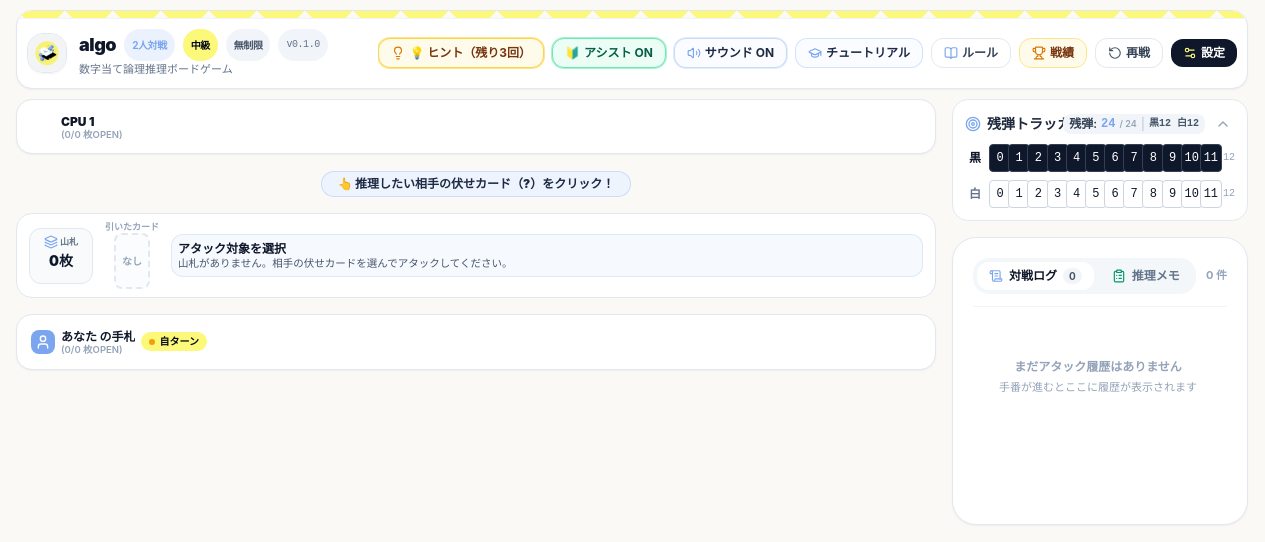
Test case: GameBoard Component & Timer Pause/Resume Logic (Issue #13) › Sound Effects & Mobile Haptics Integration (Issue #63, #71) › ヘッダーにサウンドON/OFFボタンが表示され、クリックでトグルおよびlocalStorage永続化される
This screenshot has width=1265, height=542.
# クリックしてミュートにトグル
Click the button with test id "btn-sound-toggle": (730, 53) [674,38,787,68]
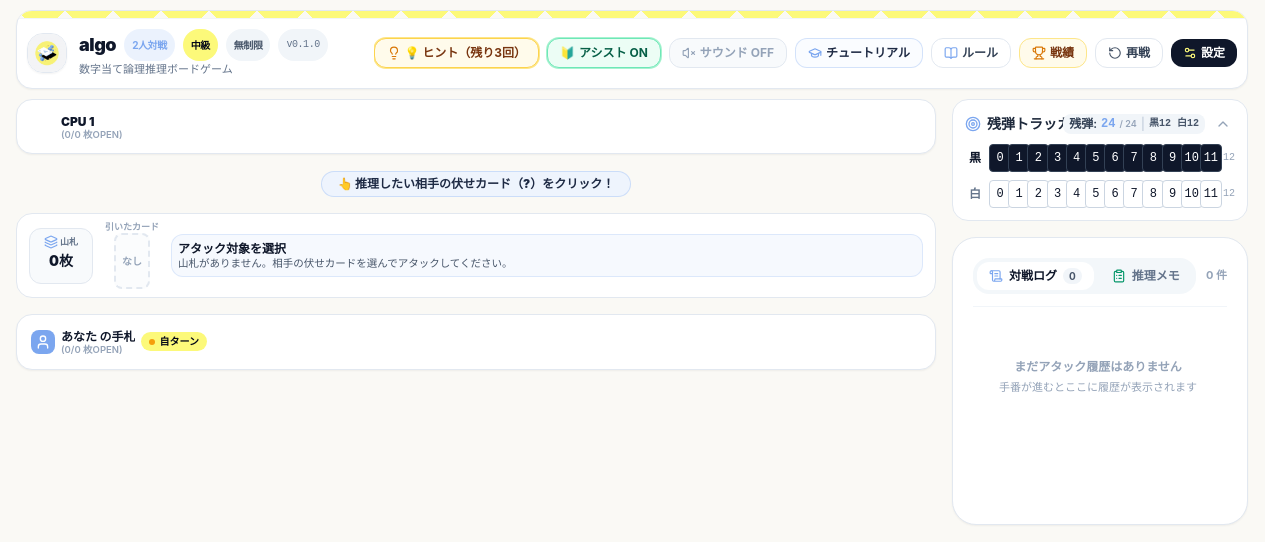
Now the button with test id "btn-sound-toggle" reads "サウンド OFF"
# 再度クリックしてONに戻す
Click the button with test id "btn-sound-toggle": (728, 53) [669,38,787,68]
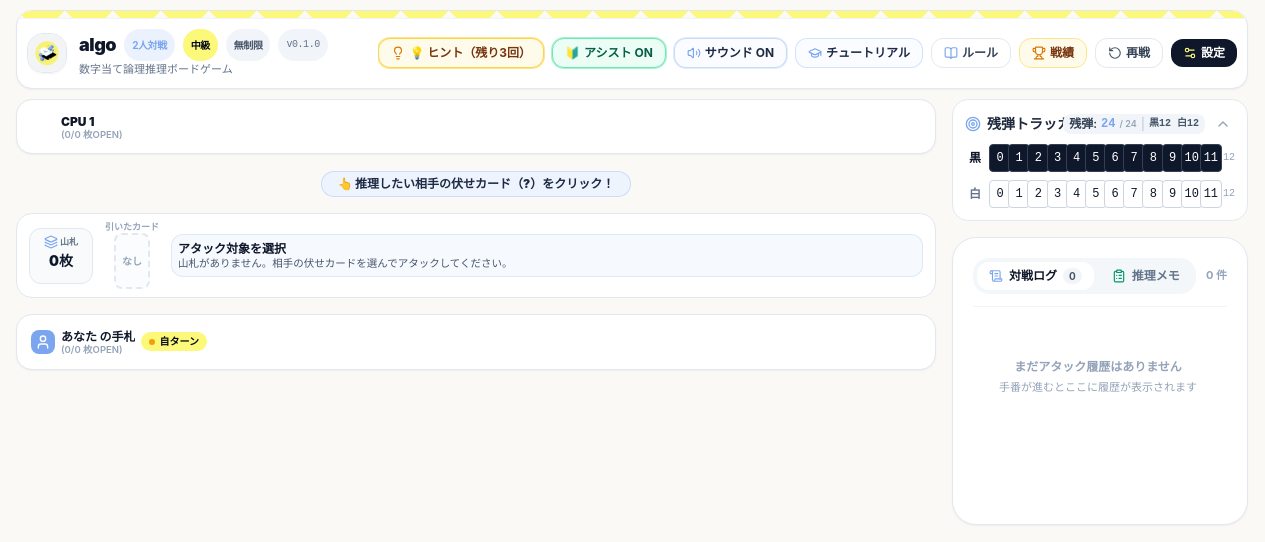
Now the button with test id "btn-sound-toggle" reads "サウンド ON", box [674,38,787,68]
